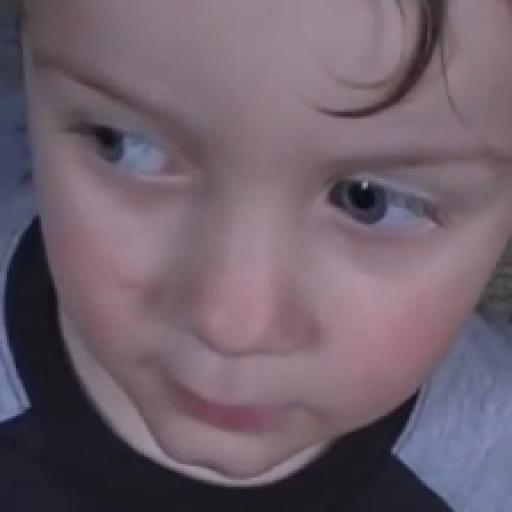Autism: (23, 4, 512, 499)
